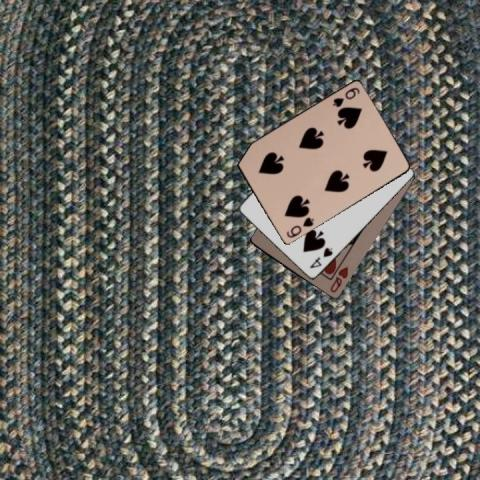4s: (307, 245, 334, 270)
6s: (284, 215, 316, 239), (329, 84, 361, 108)
Qh: (327, 263, 350, 294)
